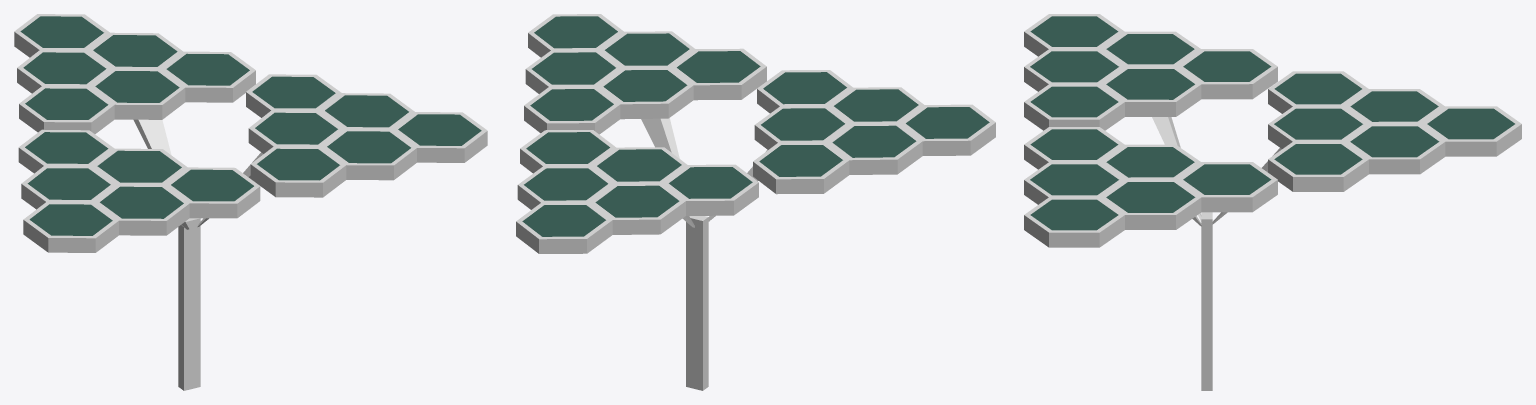
The model's file is SOLAR-S.fbx.
3 views of the same model, side by side, from view 1: azimuth 30°, elevation 25°; view 2: azimuth 150°, elevation 25°; view 3: azimuth 270°, elevation 25° (orthographic).
Parts seen in each view (by area): view 1: Cube.001, Cube.003, Cube.002, Cube.006, Cube; view 2: Cube.002, Cube.001, Cube.003, Cube.006, Cube.005; view 3: Cube.003, Cube.002, Cube.001, Cube.006, Cube.004.
Boxes of the visible parts, left/top/right/bottom form: Cube.001: left=18, top=129, right=260, bottom=252; Cube.003: left=246, top=74, right=487, bottom=197; Cube.002: left=14, top=14, right=255, bottom=133; Cube.006: left=178, top=218, right=200, bottom=390; Cube: left=133, top=119, right=171, bottom=154; Cube.002: left=516, top=130, right=758, bottom=253; Cube.001: left=753, top=70, right=995, bottom=194; Cube.003: left=524, top=14, right=766, bottom=134; Cube.006: left=686, top=216, right=708, bottom=390; Cube.005: left=641, top=118, right=679, bottom=158; Cube.003: left=1024, top=127, right=1277, bottom=247; Cube.002: left=1268, top=71, right=1521, bottom=191; Cube.001: left=1024, top=14, right=1277, bottom=130; Cube.006: left=1201, top=212, right=1212, bottom=390; Cube.004: left=1152, top=117, right=1201, bottom=221.
Size of the model in its own units: 957 by 539 by 922.
